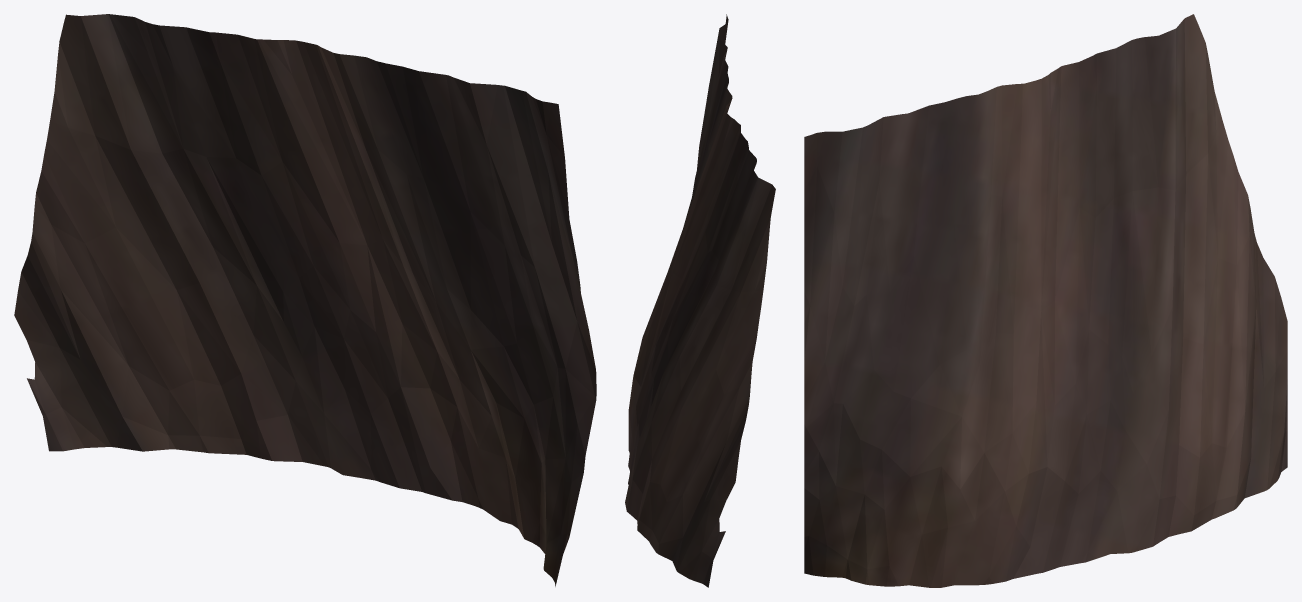
The picture shows the model from 3 angles, left to right: view 1: azimuth 30°, elevation 25°; view 2: azimuth 150°, elevation 25°; view 3: azimuth 270°, elevation 25°; orthographic projection. The views are drawn at different scales.
Size of the model in its own units: 29.35 by 42.87 by 42.87.
Materials: 1 (1 with a texture image).
